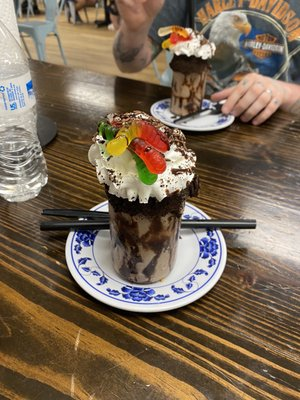curry: (1, 86, 300, 399)
sushi: (87, 110, 200, 285)
